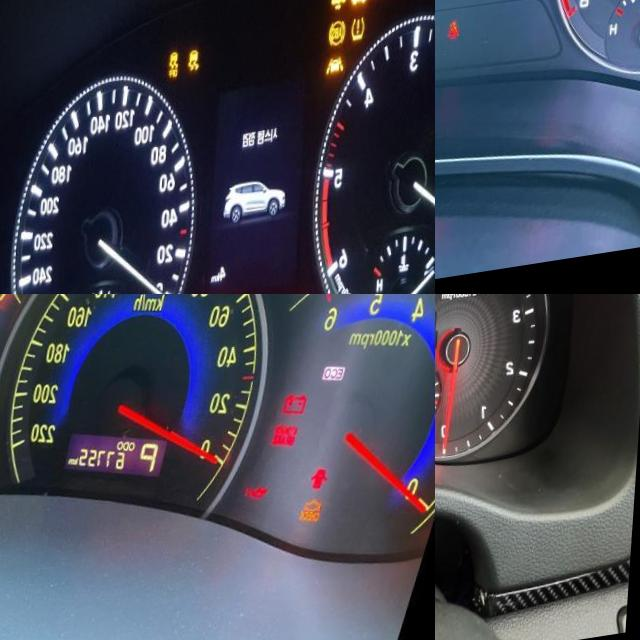Doors: (315, 481, 337, 507)
LaneCenteringOff: (329, 64, 350, 86)
